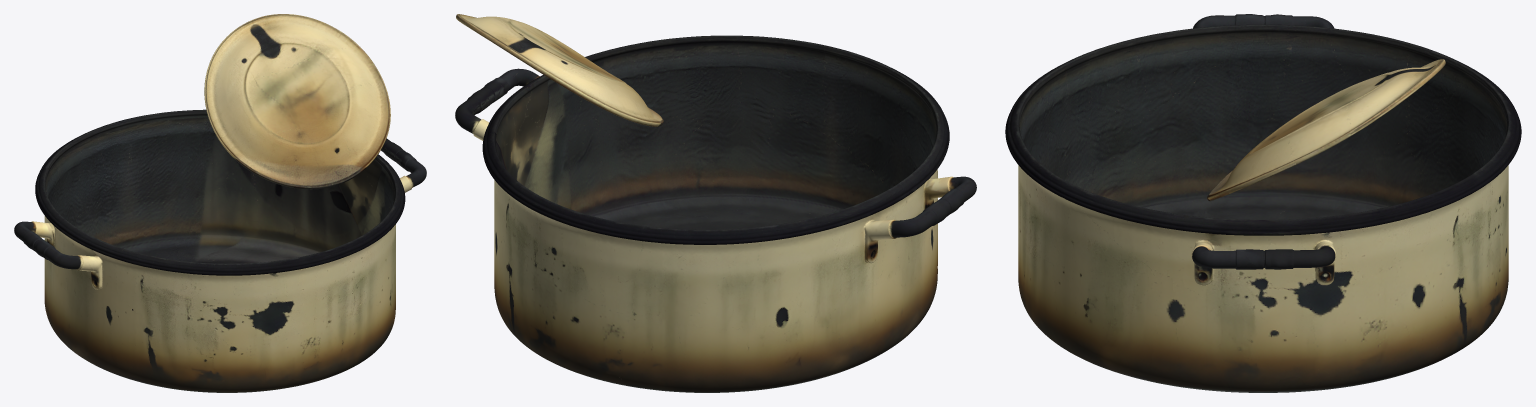
Rendered from Discarded_enamel_cooking_pot.glb.
3 views of the same model, side by side, from view 1: azimuth 30°, elevation 25°; view 2: azimuth 150°, elevation 25°; view 3: azimuth 270°, elevation 25° (orthographic). The views are drawn at different scales.
Bounding box in the file's own units: 1.9 × 1.18 × 1.69.
Materials: 1 (1 with a texture image).
